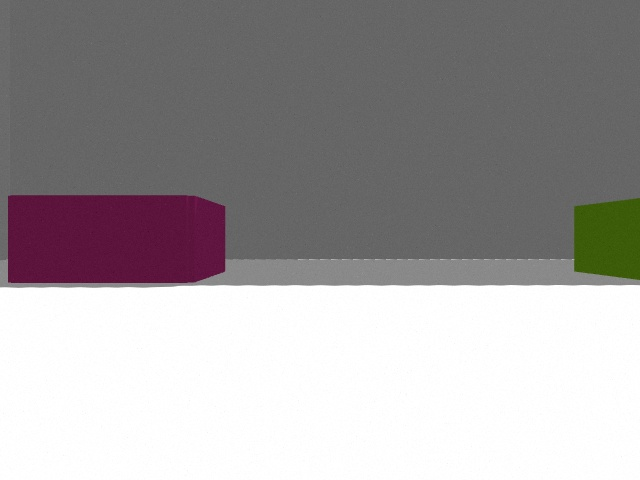green_drop_zone: (574, 198, 640, 280)
red_drop_zone: (8, 195, 225, 283)
